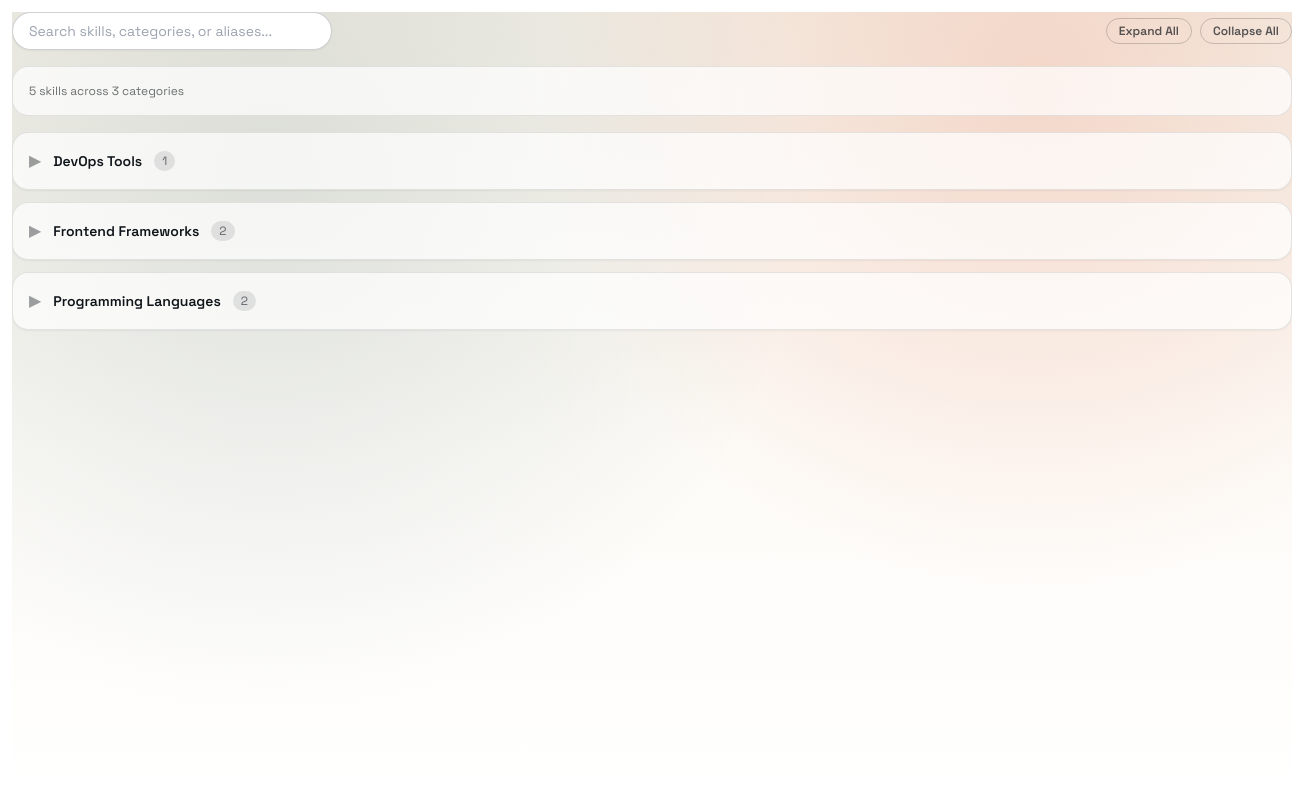
Scenario: TaxonomyViewer › click - on category header - expands category and shows skills
Click the button with aria-label "expand category programming languages". click: coordinates (137, 301)
box: [13,273,1291,329]
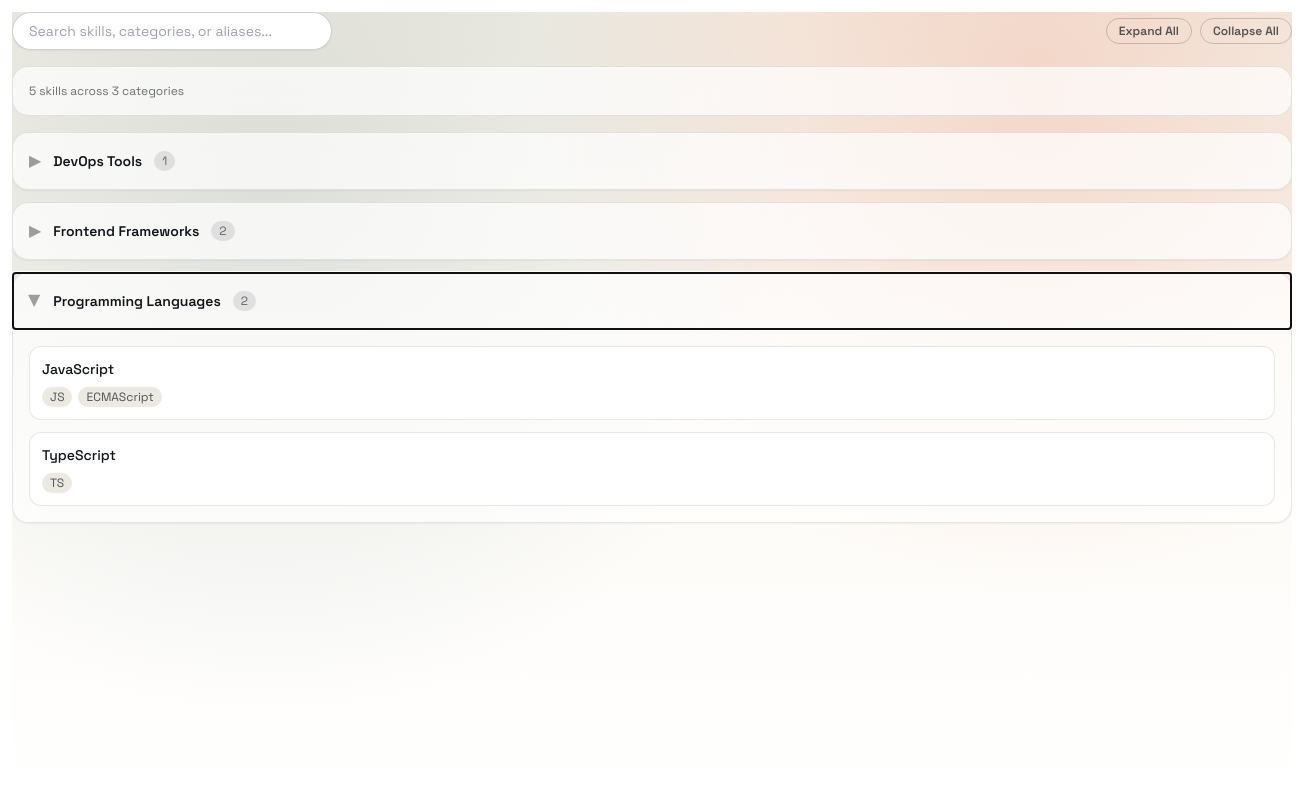
expect the text "JavaScript" is shown: met, box [42,360,114,378]
expect the text "TypeScript" is shown: met, box [42,446,116,464]
